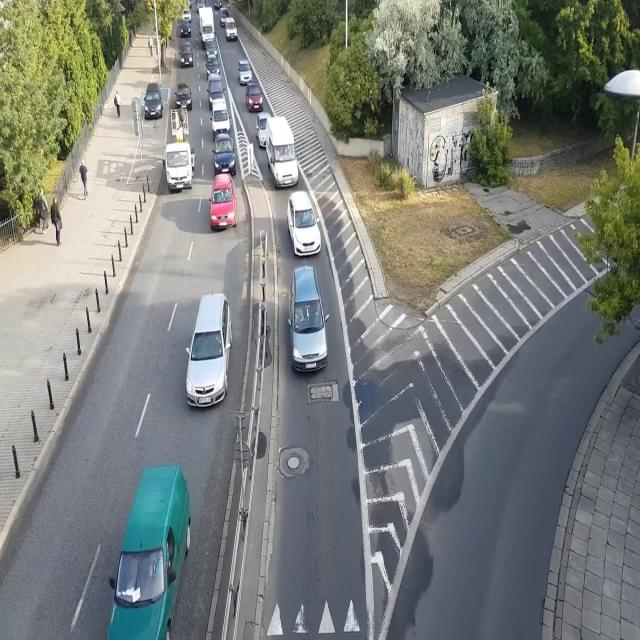car: (185, 294, 233, 408), (286, 264, 330, 374), (287, 190, 321, 256), (208, 173, 238, 229), (212, 133, 236, 179), (144, 82, 163, 119), (255, 112, 272, 148), (246, 82, 264, 112), (175, 82, 192, 111), (178, 41, 194, 68), (205, 54, 220, 80), (238, 60, 253, 85), (205, 38, 218, 60), (180, 20, 191, 38), (182, 10, 192, 23), (214, 0, 222, 11)
truck: (162, 106, 196, 192), (198, 7, 216, 48)
van: (105, 462, 192, 640), (264, 116, 298, 188), (210, 99, 231, 138), (206, 73, 226, 109), (225, 17, 238, 42), (220, 7, 230, 28), (195, 0, 206, 14)
